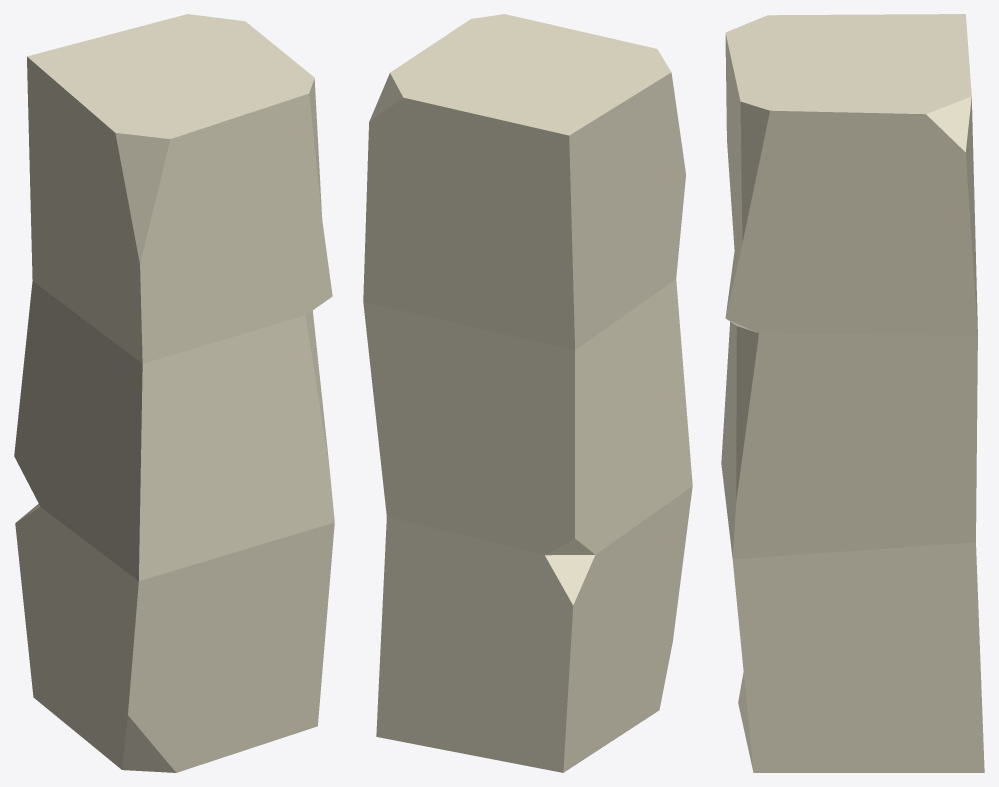
Rendered from Ruin_2.fbx.
3 views of the same model, side by side, from view 1: azimuth 30°, elevation 25°; view 2: azimuth 150°, elevation 25°; view 3: azimuth 270°, elevation 25° (orthographic). The views are drawn at different scales.
Parts seen in each view (by area): view 1: Column.003; view 2: Column.003; view 3: Column.003.
Boxes of the visible parts, x1,y1,x2,y2 form: Column.003: (14,14,334,772); Column.003: (363,14,692,772); Column.003: (721,14,984,772).
Size of the model in its own units: 57.24 by 168 by 59.9.
